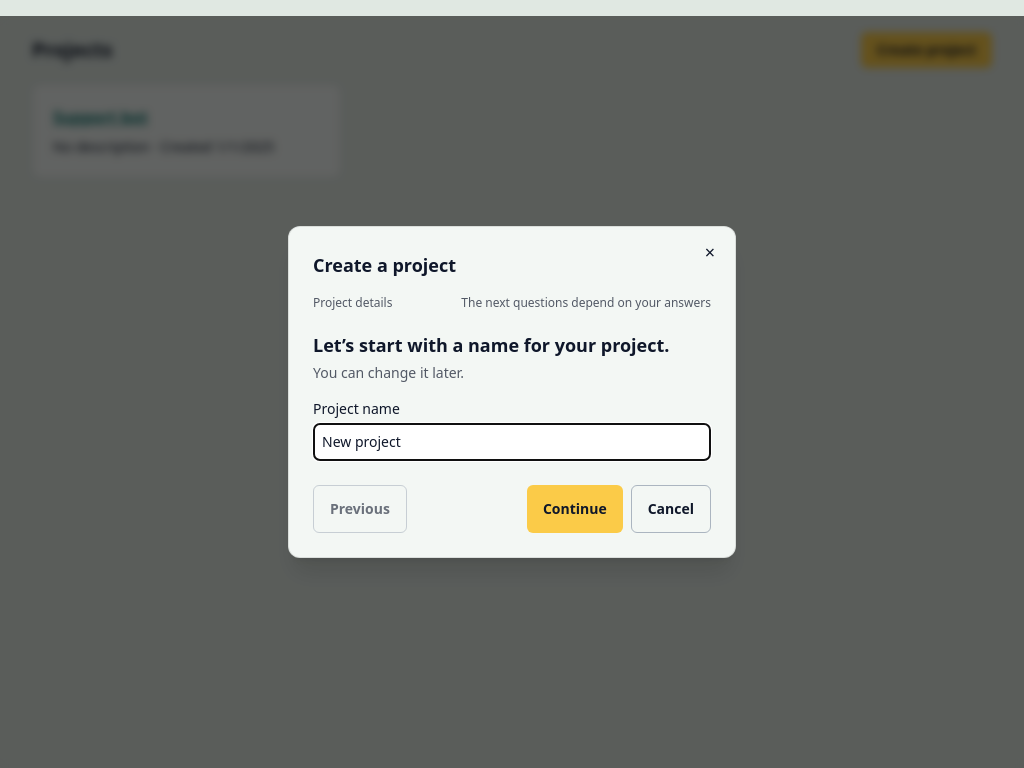
projects › guides project creation through tailored questions and review
This screenshot has width=1024, height=768.
Earlier steps of the test are not shown.
Later steps or results of the test are not shown.
Click the button "Continue": [575, 509] box [527,485,623,533]
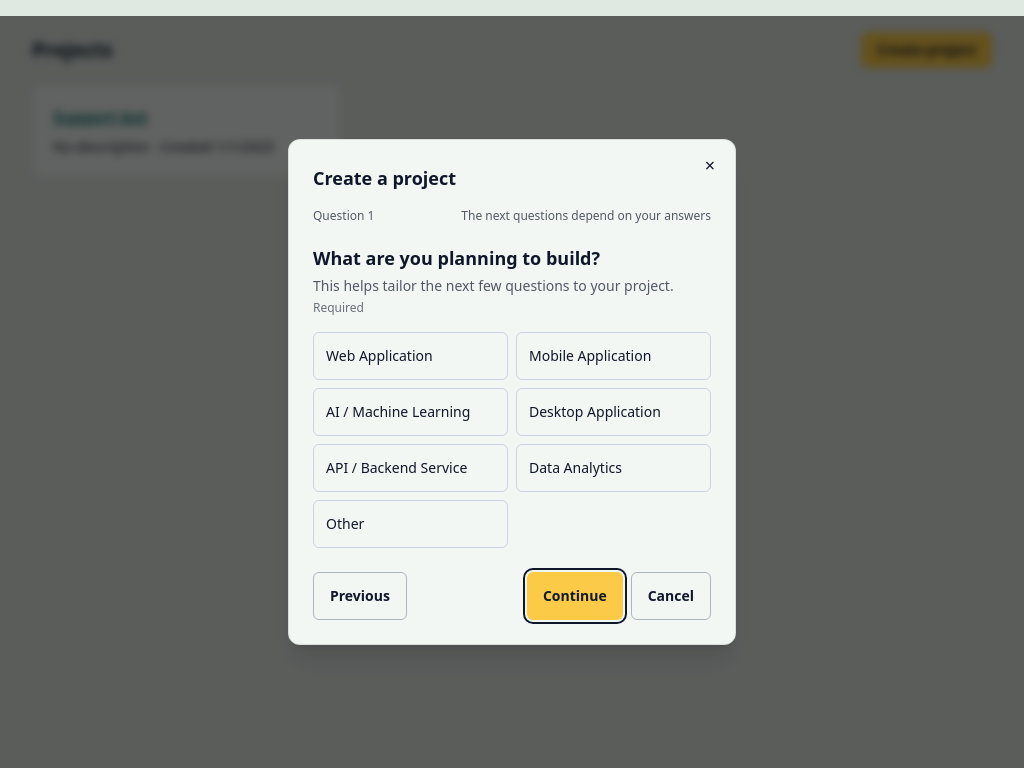
Click the button "Web Application": [410, 356] box [313,332,508,380]
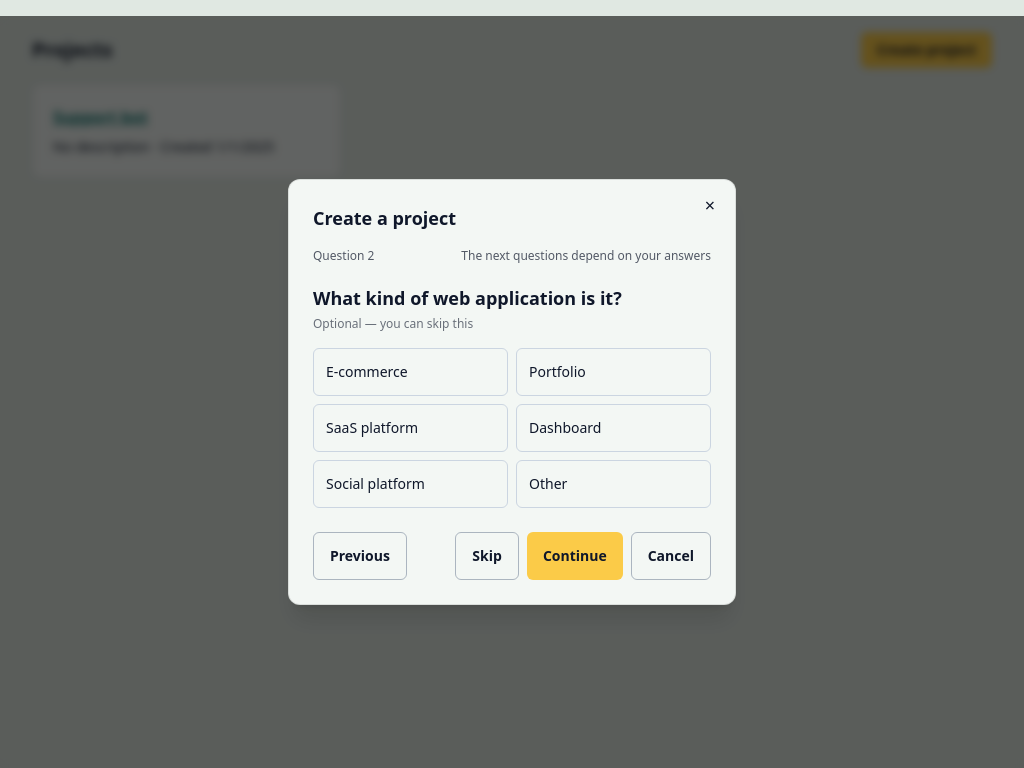
Now the heading "What kind of web application is it?" is shown, box [313,286,622,310]
Click the button "Dashboard": [614, 428] box [516,404,711,452]
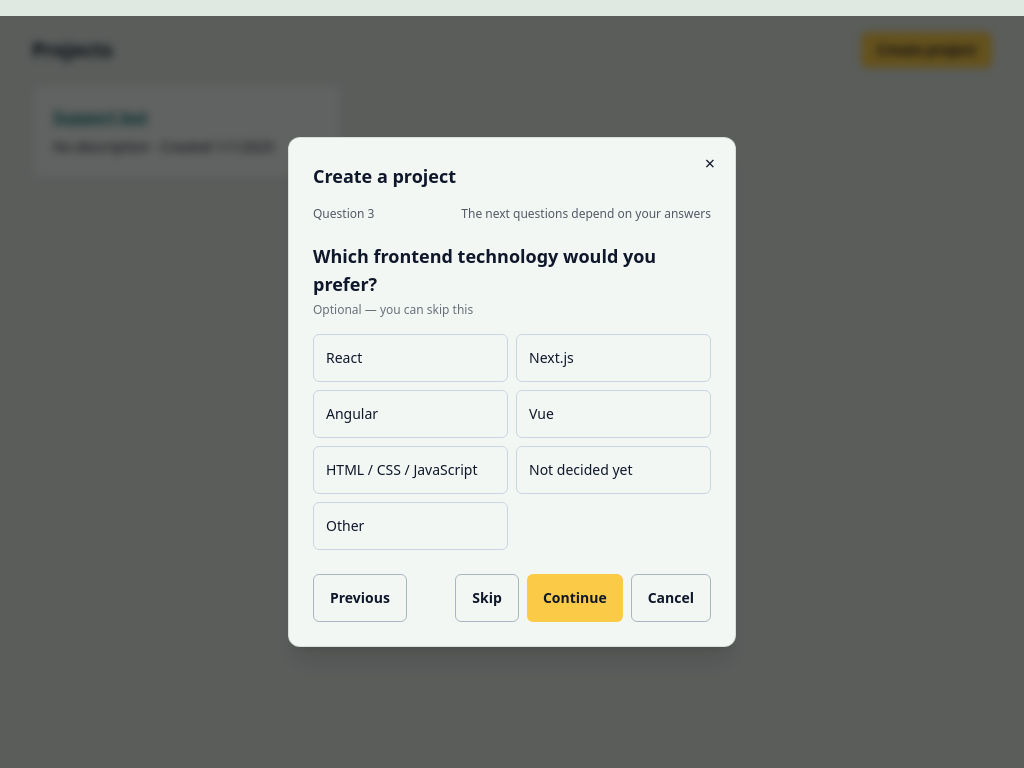
Now the heading "Which frontend technology would you prefer?" is shown, box [313,242,711,298]
Click the button "Next.js": [614, 358] box [516,334,711,382]
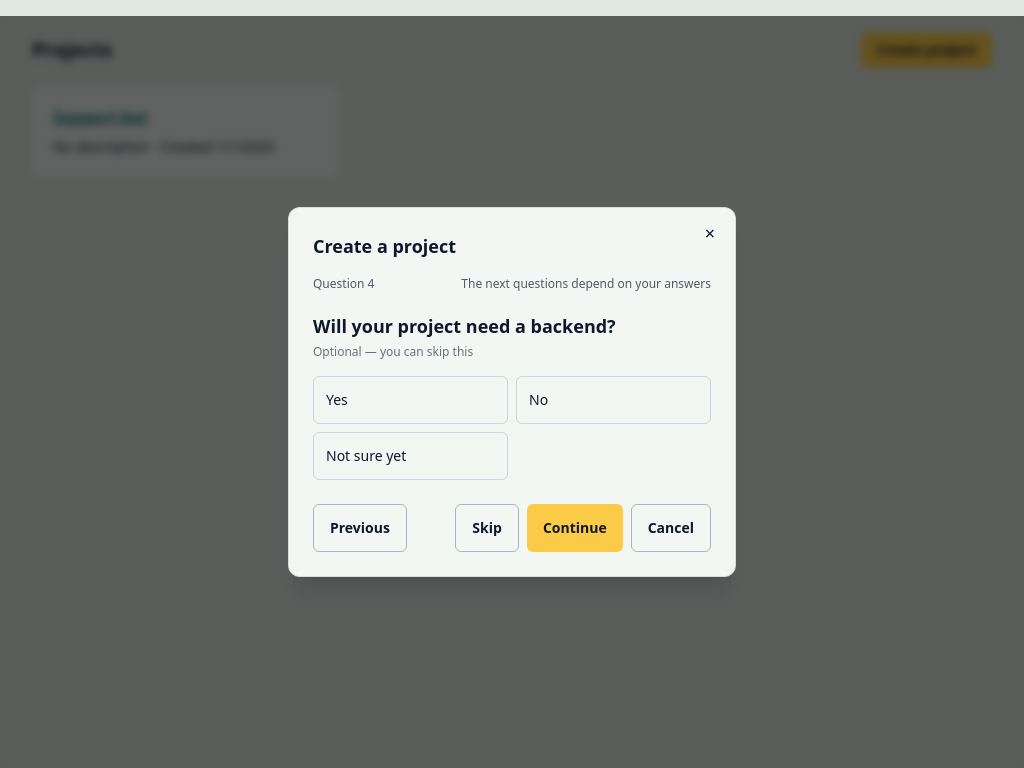
Now the heading "Will your project need a backend?" is shown, box [313,314,616,338]
Click the button "Yes": [410, 400] box [313,376,508,424]
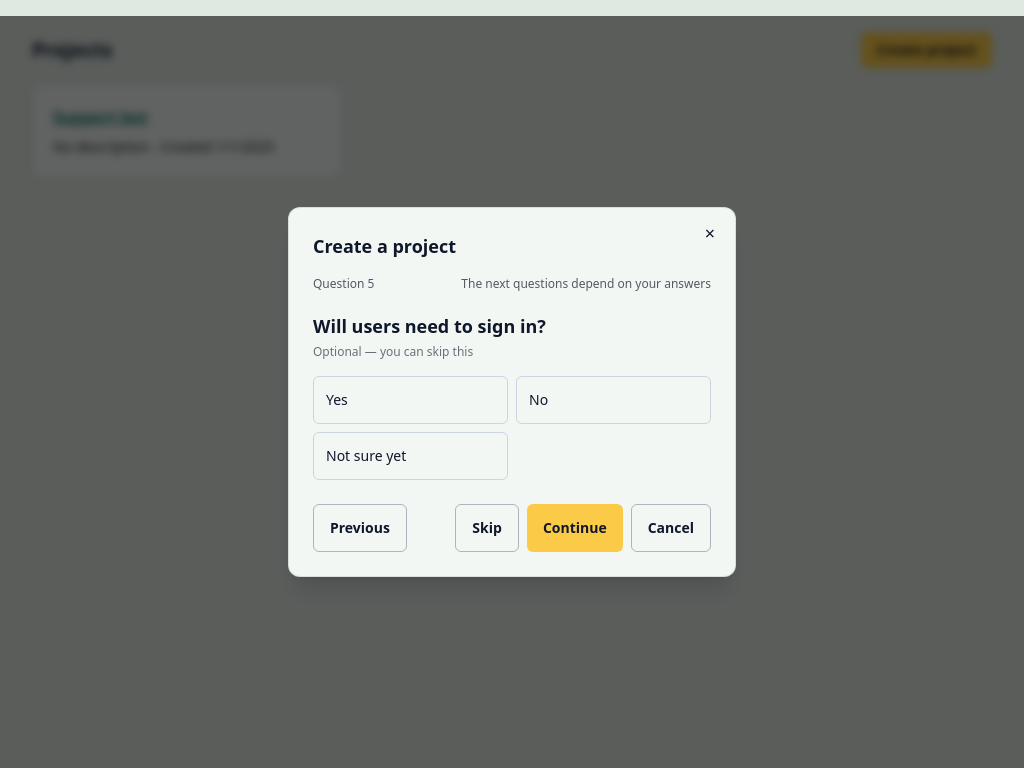
Now the heading "Will users need to sign in?" is shown, box [313,314,546,338]
Click the button "Yes": [410, 400] box [313,376,508,424]
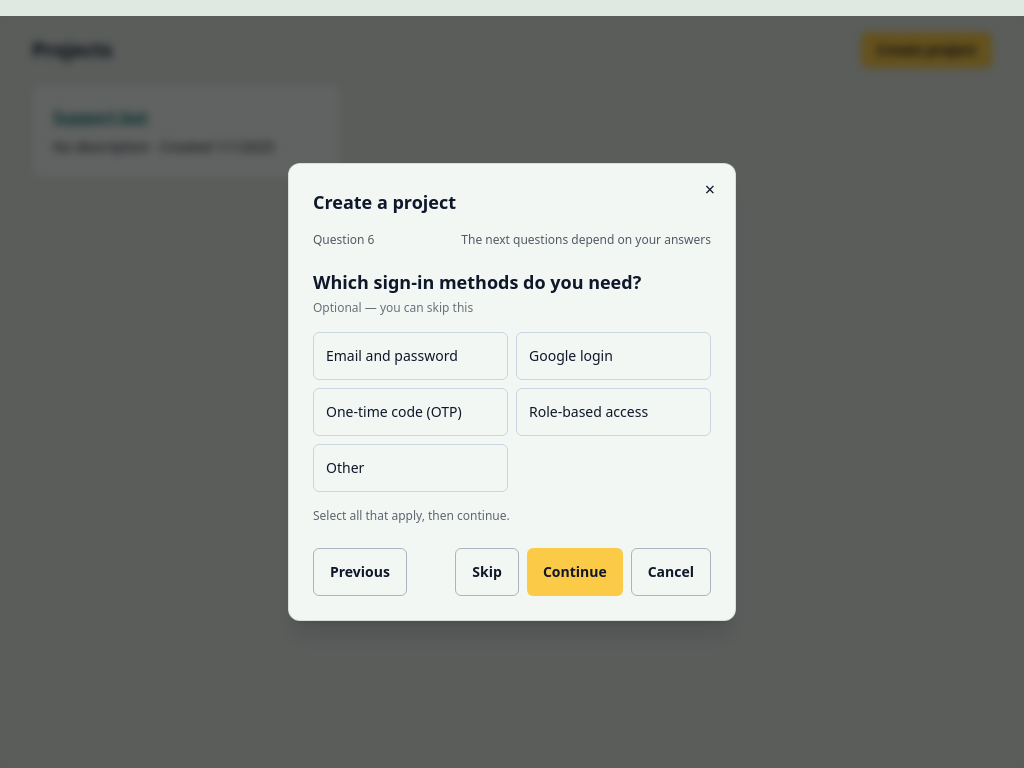
Now the heading "Which sign-in methods do you need?" is shown, box [313,270,641,294]
